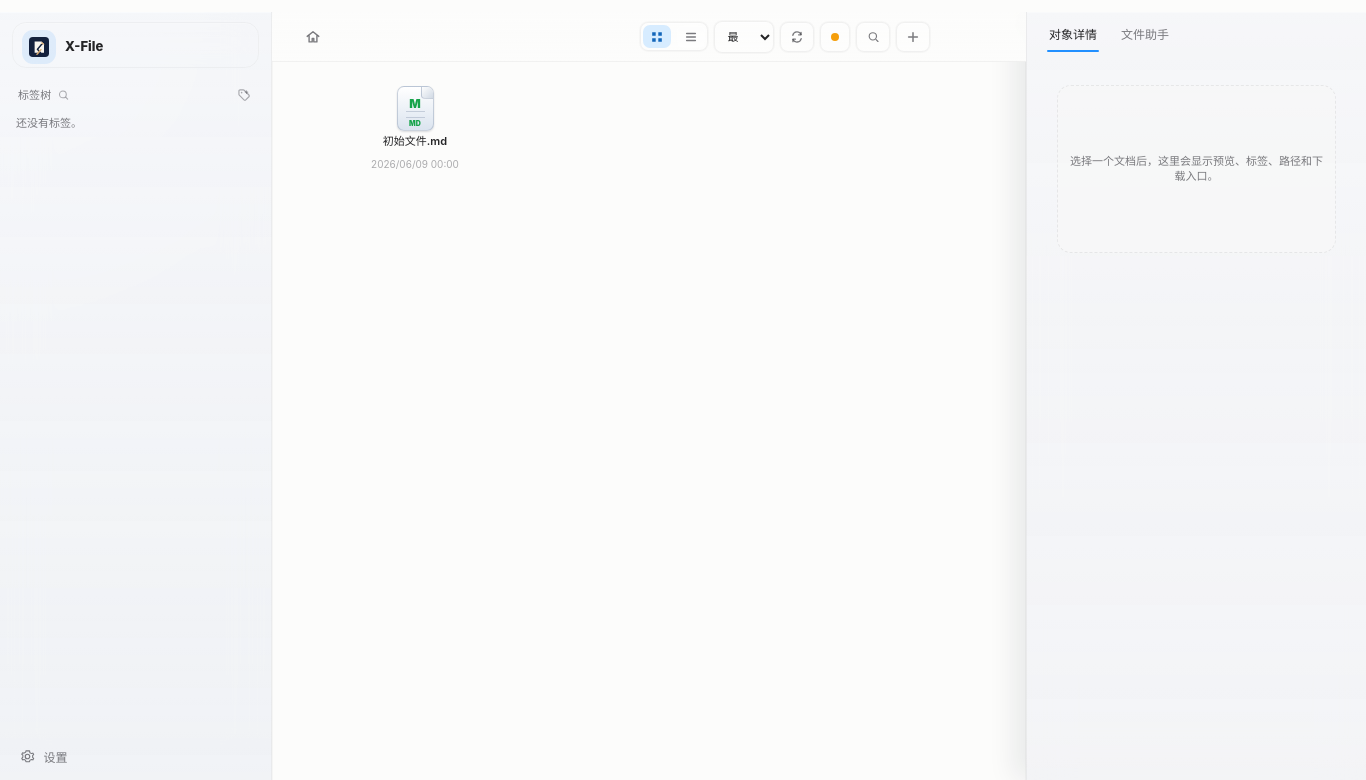
Test: LibraryPage 高风险交互 › 已有内容时刷新不会把主区域整块切成骨架
Expected: the text "初始文件.md" is shown, [383, 134, 447, 148]
What coordinates should you click on to do the following:
click the button named "刷新文档库"
I would click on:
 (797, 36)
Its box is [780, 22, 814, 52].
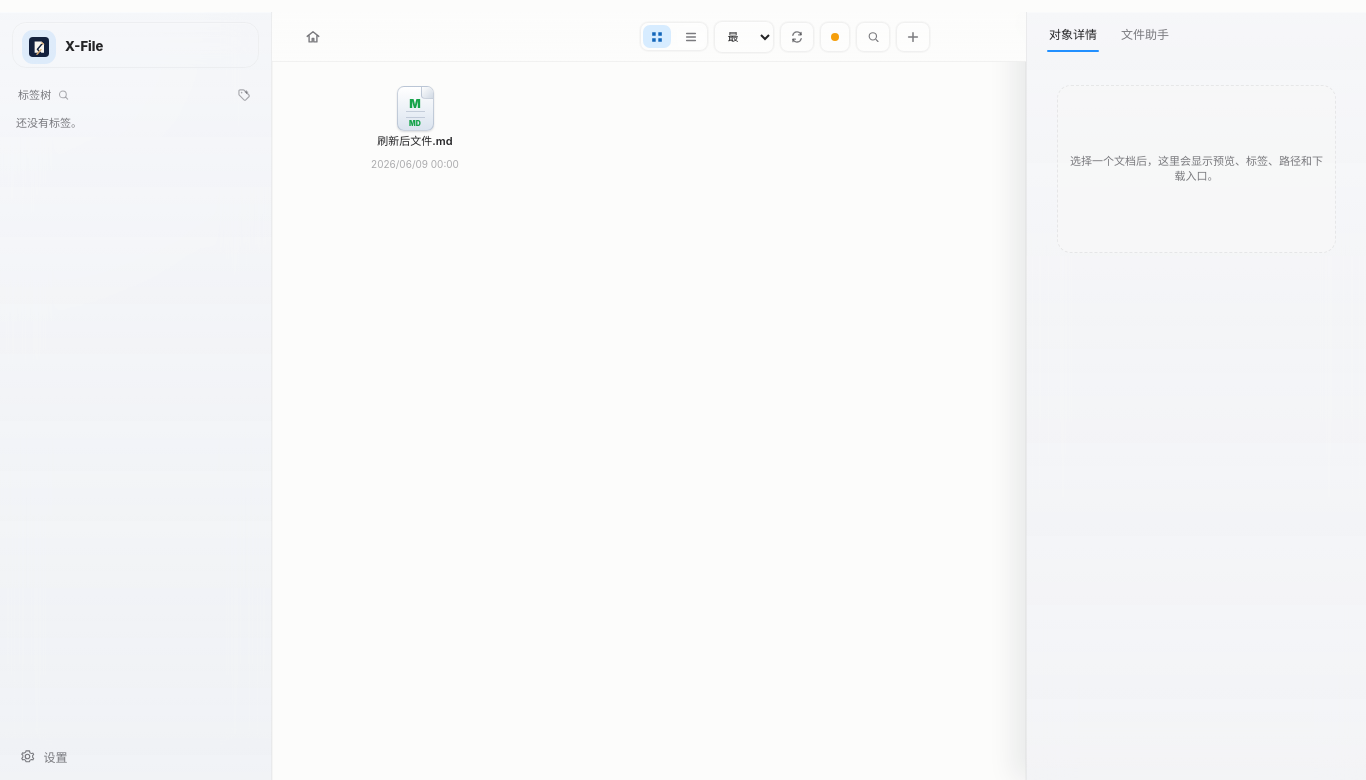
Now the text "刷新后文件.md" is shown, box [378, 134, 453, 148]
